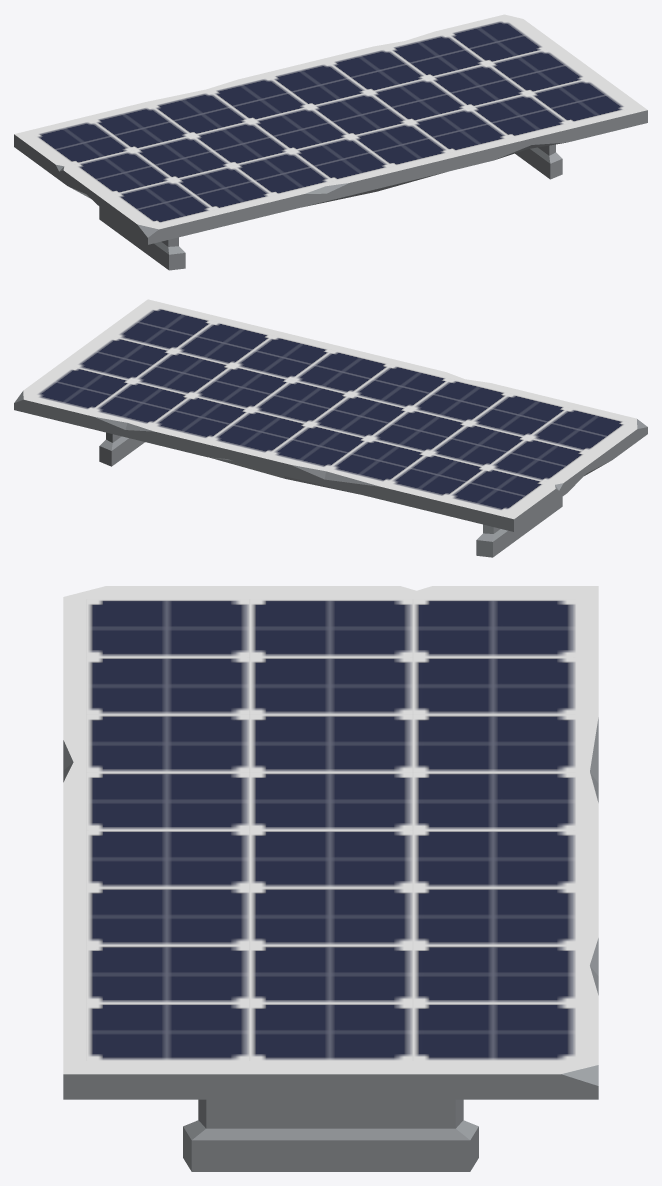
File: SM_Prop_SolarPanel_01.fbx
3 views of the same model, one above another, from view 1: azimuth 30°, elevation 25°; view 2: azimuth 150°, elevation 25°; view 3: azimuth 270°, elevation 25° (orthographic). The views are drawn at different scales.
Parts seen in each view (by area): view 1: SM_Prop_SolarPanel_01; view 2: SM_Prop_SolarPanel_01; view 3: SM_Prop_SolarPanel_01.
Part boxes in pixels (<box>): SM_Prop_SolarPanel_01: <box>14,14,647,270</box>; SM_Prop_SolarPanel_01: <box>14,299,647,557</box>; SM_Prop_SolarPanel_01: <box>63,586,598,1171</box>.
Size of the model in its own units: 238 by 34.12 by 111.
